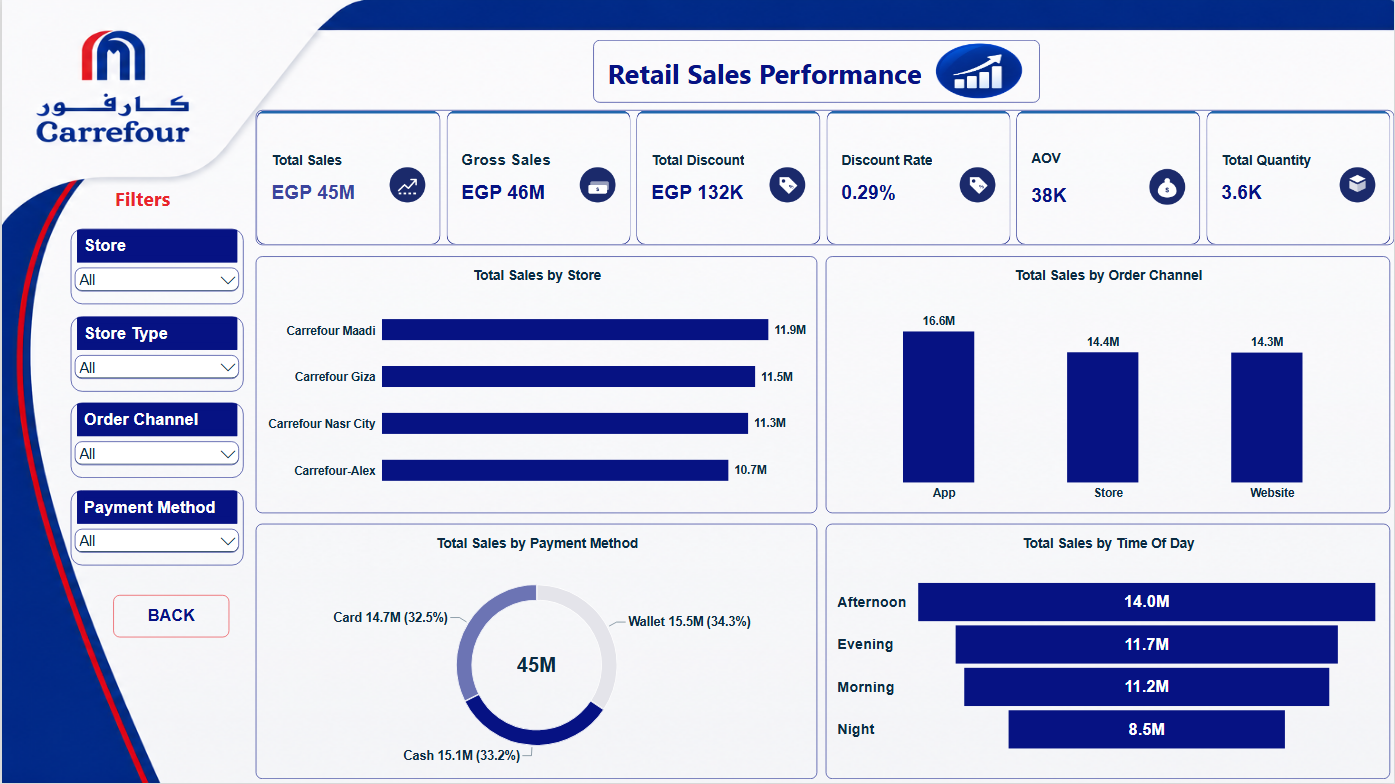

What the dashboard file says about the page in this screenshot:
{"tool":"powerbi","page":{"name":"Sales Performance","canvas":[1920,1080],"ordinal":2},"visuals":[{"type":"cardVisual","fields":{"Data":["Sales.Total Sales *","Sales.Gross Sales","Sales.Total Discount","Sales.Discount Rate","Sales.AOV","Sales.Total Quantity"]},"box":[350,152,1570,186],"z":0},{"type":"barChart","title":"Total Sales by Store","fields":{"Category":["Sales.StoreName"],"Y":["Sales.Total Sales *"]},"box":[350,354,774,354],"z":1000},{"type":"columnChart","title":"Total Sales by Order Channel","fields":{"Y":["Sales.Total Sales *"],"Category":["Sales.OrderChannel"]},"box":[1136,354,778,354],"z":2000},{"type":"donutChart","title":"Total Sales by Payment Method","fields":{"Category":["Sales.PaymentMethod"],"Y":["Sales.Total Sales *"]},"box":[350,722,774,352],"z":3000},{"type":"funnel","title":"Total Sales by Time Of Day","fields":{"Category":["Sales.Time Of Day"],"Y":["Sales.Total Sales *"]},"box":[1136,722,778,352],"z":4000},{"type":"slicer","fields":{"Values":["Sales.StoreName"]},"box":[94,316,238,104],"z":5000},{"type":"slicer","fields":{"Values":["Sales.StoreType"]},"box":[94,436,238,104],"z":6000},{"type":"slicer","fields":{"Values":["Sales.OrderChannel"]},"box":[94,556,238,104],"z":7000},{"type":"slicer","fields":{"Values":["Sales.PaymentMethod"]},"box":[94,676,238,104],"z":8000},{"type":"shape","box":[816,56,616,86],"z":9000},{"type":"shape","box":[74,238,239.6,66],"z":10000},{"type":"actionButton","box":[154,820,160,58],"z":11000},{"type":"image","box":[1262,40,174,118],"z":12000}]}

Visuals, with their boxes in screenshot pixels (x1, y1, x2, y2), scaled from the page's 1920x1080 canvas onto the 1395x784 screenshot:
cardVisual - Sales.Total Sales * x Sales.Gross Sales: (x1=254, y1=110, x2=1394, y2=245)
"Total Sales by Store" barChart: (x1=254, y1=257, x2=817, y2=514)
"Total Sales by Order Channel" columnChart: (x1=825, y1=257, x2=1391, y2=514)
"Total Sales by Payment Method" donutChart: (x1=254, y1=524, x2=817, y2=780)
"Total Sales by Time Of Day" funnel: (x1=825, y1=524, x2=1391, y2=780)
slicer - Sales.StoreName: (x1=68, y1=229, x2=241, y2=305)
slicer - Sales.StoreType: (x1=68, y1=317, x2=241, y2=392)
slicer - Sales.OrderChannel: (x1=68, y1=404, x2=241, y2=479)
slicer - Sales.PaymentMethod: (x1=68, y1=491, x2=241, y2=566)
shape: (x1=593, y1=41, x2=1040, y2=103)
shape: (x1=54, y1=173, x2=228, y2=221)
actionButton: (x1=112, y1=595, x2=228, y2=637)
image: (x1=917, y1=29, x2=1043, y2=115)
